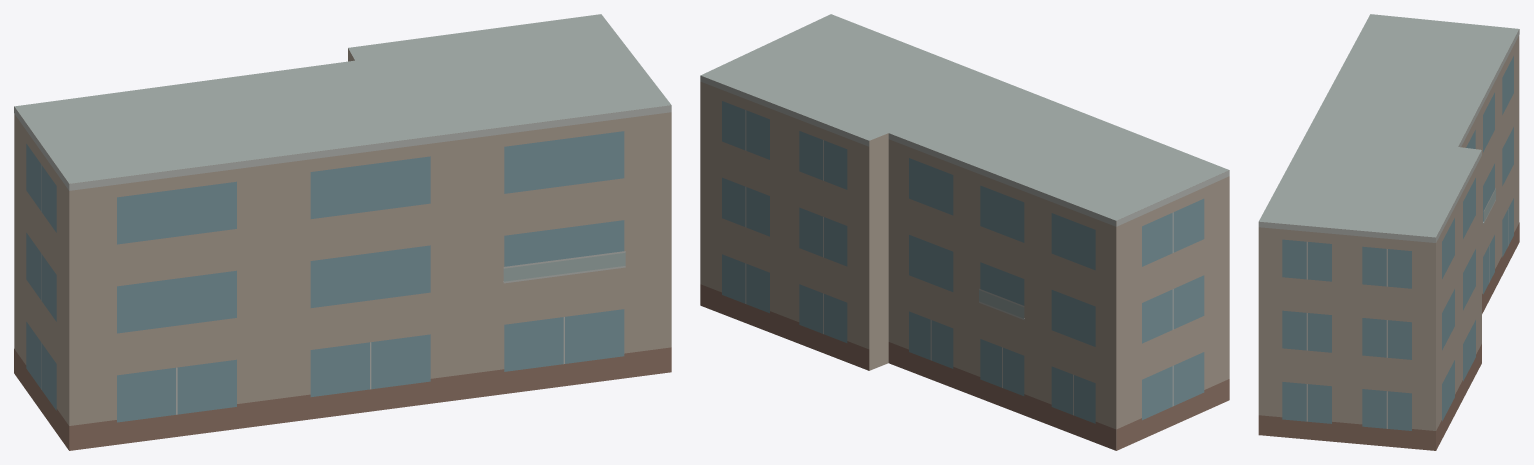
Rendered from survey-upis-32751901.glb.
3 views of the same model, side by side, from view 1: azimuth 30°, elevation 25°; view 2: azimuth 150°, elevation 25°; view 3: azimuth 270°, elevation 25° (orthographic). The views are drawn at different scales.
Parts seen in each view (by area): view 1: survey-upis-32751901.tmp; view 2: survey-upis-32751901.tmp; view 3: survey-upis-32751901.tmp.
Part boxes in pixels (left/top/right/bottom): survey-upis-32751901.tmp: left=14, top=14, right=671, bottom=450; survey-upis-32751901.tmp: left=700, top=14, right=1229, bottom=450; survey-upis-32751901.tmp: left=1258, top=14, right=1519, bottom=450.
Size of the model in its own units: 20.9 by 9.3 by 10.31.
